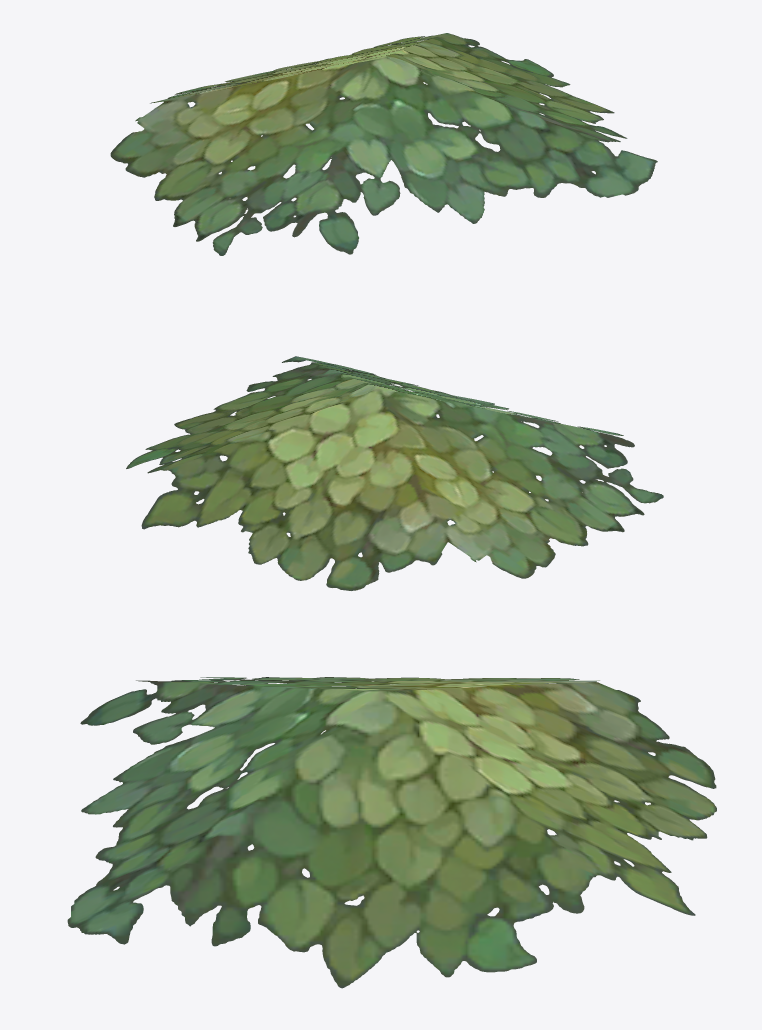
The model's file is Map_Choose_tree06.FBX.
The picture shows the model from 3 angles, top to bottom: view 1: azimuth 30°, elevation 25°; view 2: azimuth 150°, elevation 25°; view 3: azimuth 270°, elevation 25°; orthographic projection. The views are drawn at different scales.
Visible parts, largest first — view 1: Map_Choose_tree06; view 2: Map_Choose_tree06; view 3: Map_Choose_tree06.
Boxes of the visible parts, left/top/right/bottom form: Map_Choose_tree06: left=110, top=33, right=657, bottom=255; Map_Choose_tree06: left=126, top=356, right=663, bottom=590; Map_Choose_tree06: left=67, top=677, right=716, bottom=988.
Size of the model in its own units: 56.67 by 12.08 by 51.74.
Materials: 1 (1 with a texture image).
